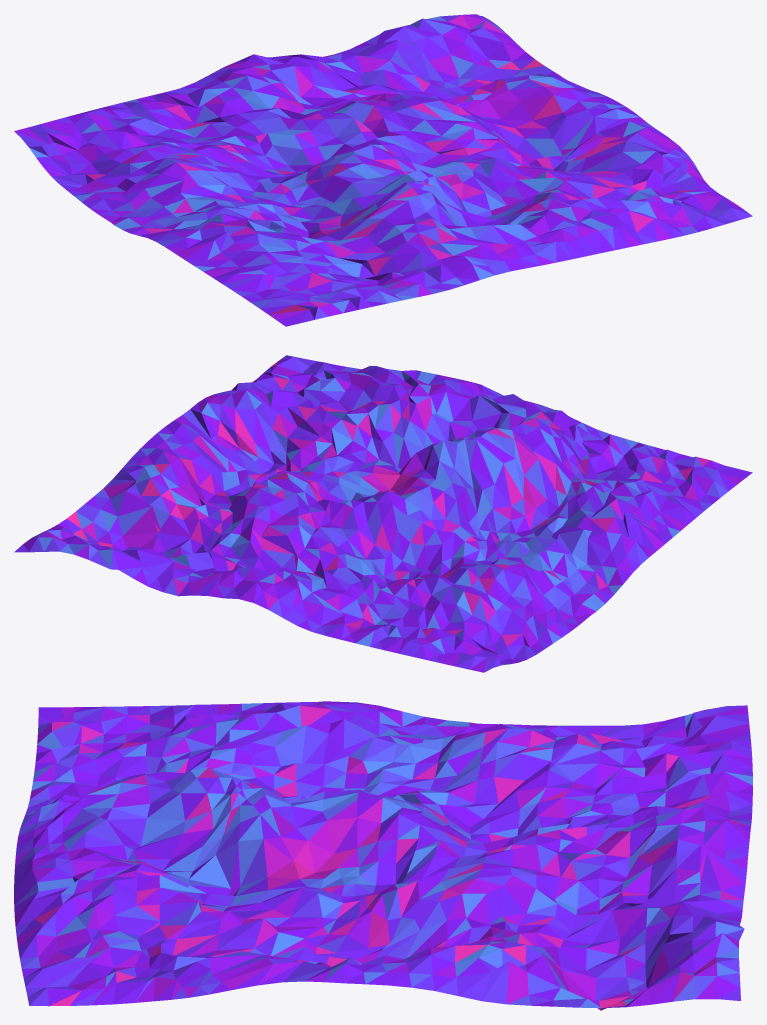
The model's file is RandomTriangle.fbx.
The picture shows the model from 3 angles, top to bottom: view 1: azimuth 30°, elevation 25°; view 2: azimuth 150°, elevation 25°; view 3: azimuth 270°, elevation 25°; orthographic projection. The views are drawn at different scales.
Parts seen in each view (by area): view 1: Plane; view 2: Plane; view 3: Plane.
Part boxes in pixels (x1,y1,x2,y2): Plane: (14,14,752,326); Plane: (14,355,752,672); Plane: (14,701,752,1010).
Bounding box in the file's own units: 597 × 81.95 × 607.
